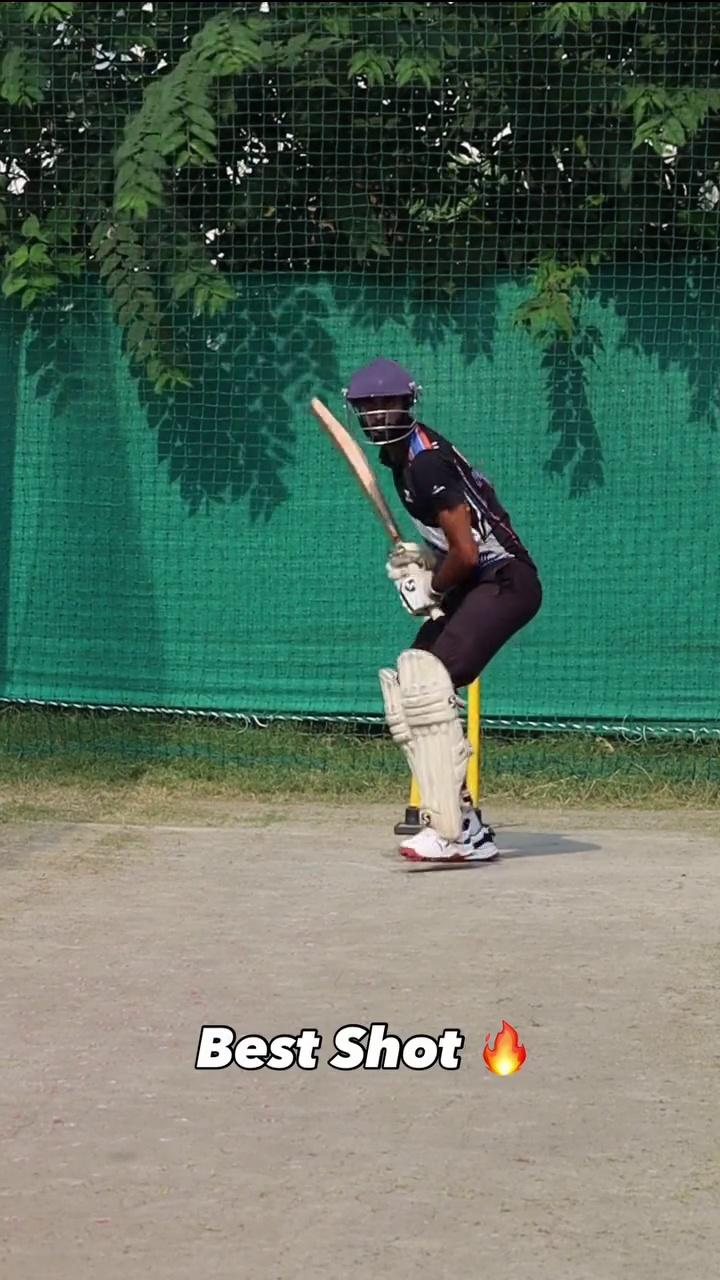bat: (308, 389, 403, 548)
